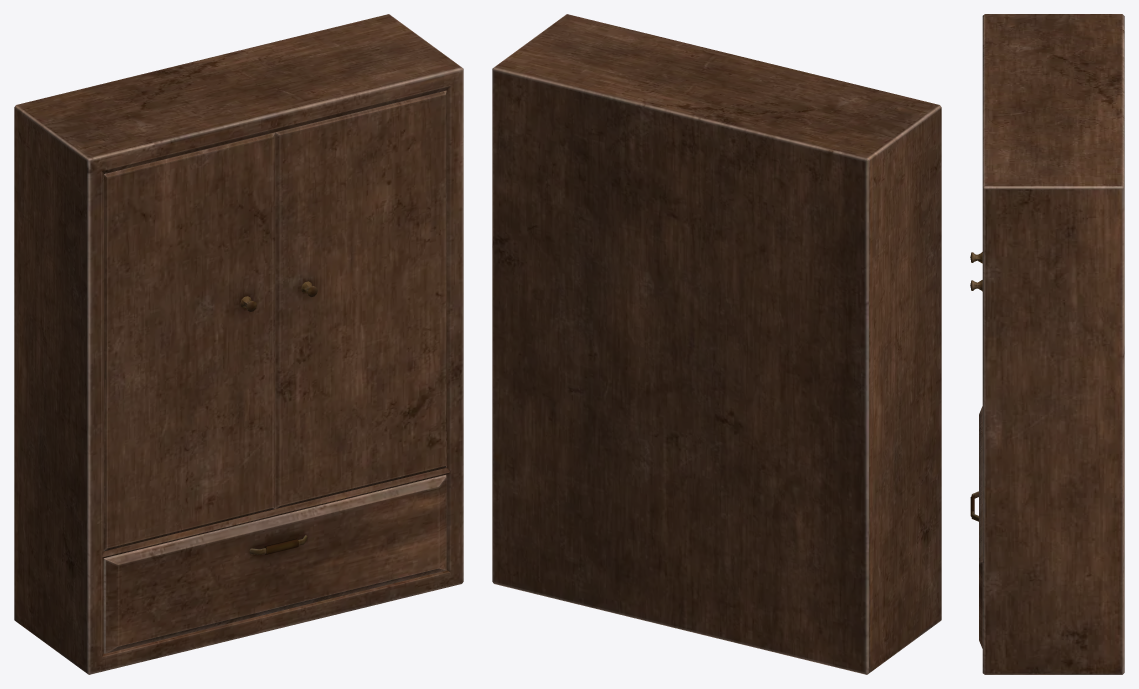
Rendered from Wardrobe.glb.
3 views of the same model, side by side, from view 1: azimuth 30°, elevation 25°; view 2: azimuth 150°, elevation 25°; view 3: azimuth 270°, elevation 25° (orthographic). The views are drawn at different scales.
Visible parts, largest first — view 1: Wardrobe; view 2: Wardrobe; view 3: Wardrobe.
Boxes of the visible parts, x1,y1,x2,y2 form: Wardrobe: (14,14,463,674); Wardrobe: (492,14,941,674); Wardrobe: (970,14,1124,674).
Bounding box in the file's own units: 1.49 × 1.95 × 0.5578.
Materials: 1 (1 with a texture image).
